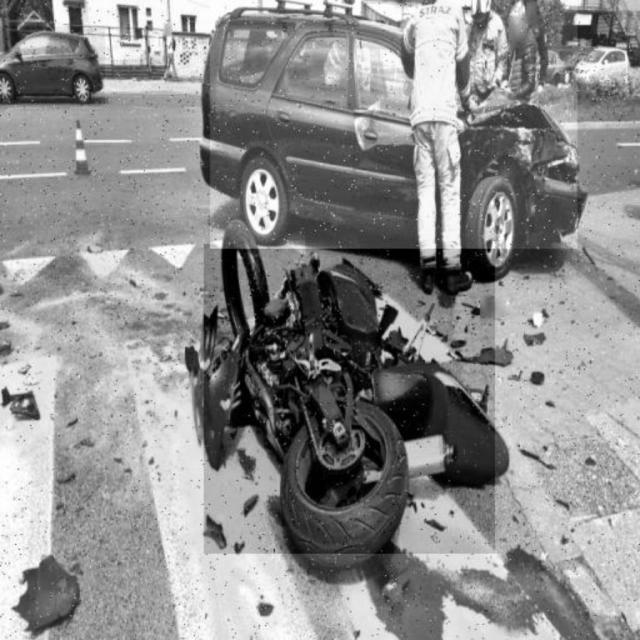person: (404, 0, 471, 292)
vehicle: (210, 1, 578, 249), (204, 244, 495, 554), (0, 27, 104, 100), (571, 47, 628, 83)
